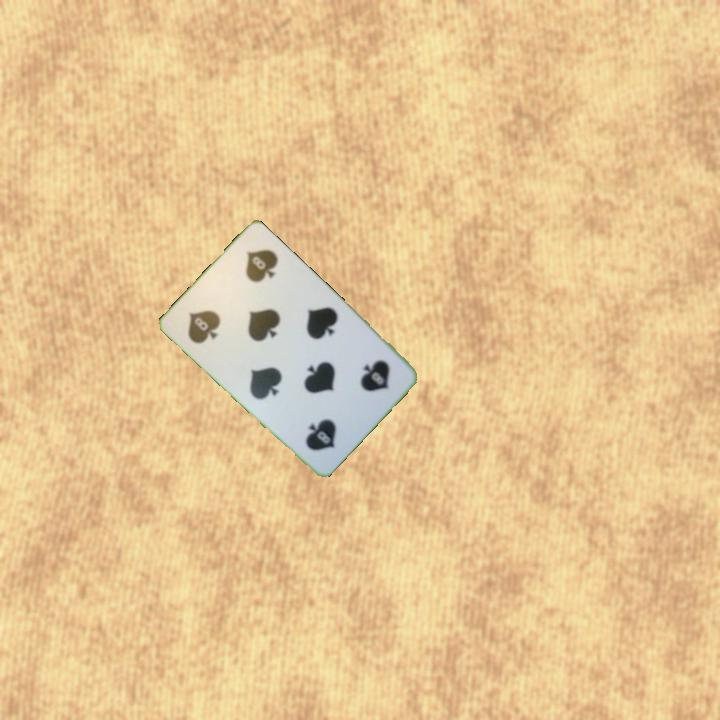s_8.png: (323, 336, 409, 423), (169, 276, 255, 362)
